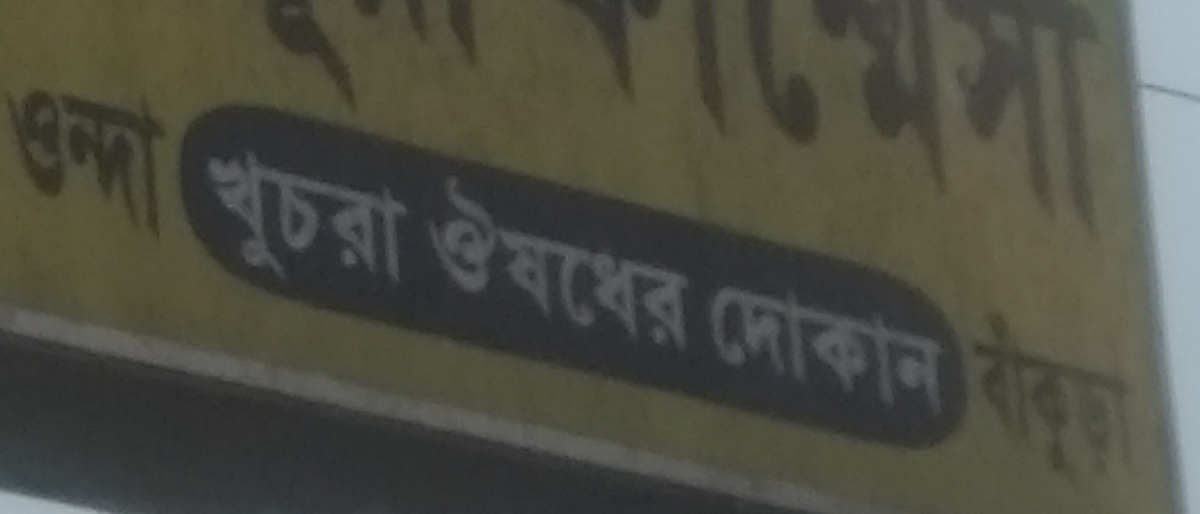text: (545, 1, 560, 241), (561, 1, 576, 241), (577, 1, 592, 241), (593, 1, 608, 241), (609, 1, 624, 241), (625, 1, 640, 241), (641, 1, 656, 241), (657, 1, 672, 241), (673, 1, 688, 241), (689, 1, 704, 241), (705, 1, 720, 241), (721, 1, 736, 241), (737, 1, 752, 241), (753, 1, 768, 241), (769, 1, 784, 241), (785, 1, 800, 241), (801, 1, 816, 241), (817, 1, 832, 241), (833, 1, 848, 241), (849, 1, 864, 241), (865, 1, 880, 241), (881, 1, 896, 241), (897, 1, 912, 241), (913, 1, 928, 241), (929, 1, 944, 241), (945, 1, 960, 241), (961, 1, 976, 241), (977, 1, 992, 241), (993, 1, 1008, 241), (1009, 1, 1024, 241), (1025, 1, 1040, 241), (1041, 1, 1056, 241), (1057, 1, 1072, 241), (1073, 1, 1088, 241), (1089, 1, 1104, 241), (977, 297, 992, 495), (993, 297, 1008, 495), (1009, 297, 1024, 495), (1025, 297, 1040, 495), (1041, 297, 1056, 495), (1057, 297, 1072, 495), (1073, 297, 1088, 495), (1089, 297, 1104, 495), (1105, 297, 1120, 495), (1121, 297, 1136, 495), (433, 169, 448, 360), (449, 169, 464, 360), (465, 169, 480, 360), (481, 169, 496, 360), (497, 169, 512, 360), (513, 169, 528, 360), (529, 169, 544, 360), (545, 169, 560, 360), (561, 169, 576, 360), (577, 169, 592, 360), (593, 169, 608, 360), (609, 169, 624, 360), (625, 169, 640, 360), (641, 169, 656, 360), (657, 169, 672, 360), (673, 169, 688, 360), (17, 63, 32, 251), (33, 63, 48, 251), (49, 63, 64, 251), (65, 63, 80, 251), (81, 63, 96, 251), (97, 63, 112, 251), (113, 63, 128, 251), (129, 63, 144, 251), (145, 63, 160, 251), (161, 63, 176, 251), (2, 63, 16, 251), (209, 139, 224, 305), (225, 139, 240, 305), (241, 139, 256, 305), (257, 139, 272, 305), (273, 139, 288, 305), (289, 139, 304, 305), (305, 139, 320, 305), (321, 139, 336, 305), (337, 139, 352, 305), (353, 139, 368, 305), (369, 139, 384, 305), (385, 139, 400, 305), (964, 297, 976, 495), (721, 269, 736, 427), (737, 269, 752, 427), (753, 269, 768, 427), (769, 269, 784, 427), (785, 269, 800, 427), (801, 269, 816, 427), (817, 269, 832, 427), (833, 269, 848, 427), (849, 269, 864, 427), (865, 269, 880, 427), (881, 269, 896, 427), (897, 269, 912, 427), (913, 269, 928, 427), (929, 269, 944, 427), (401, 139, 413, 305), (1105, 1, 1113, 241), (257, 1, 272, 128), (273, 1, 288, 128), (289, 1, 304, 128), (305, 1, 320, 128), (321, 1, 336, 128), (337, 1, 352, 128), (353, 1, 368, 128), (369, 1, 384, 128), (385, 1, 400, 128), (401, 1, 416, 128), (417, 1, 432, 128), (433, 1, 448, 128), (449, 1, 464, 128), (465, 1, 480, 128), (481, 1, 496, 128), (1137, 297, 1143, 495), (427, 169, 432, 360), (689, 169, 694, 360), (945, 269, 951, 427), (249, 1, 256, 128), (717, 269, 720, 427), (497, 1, 499, 128), (543, 1, 544, 241)
